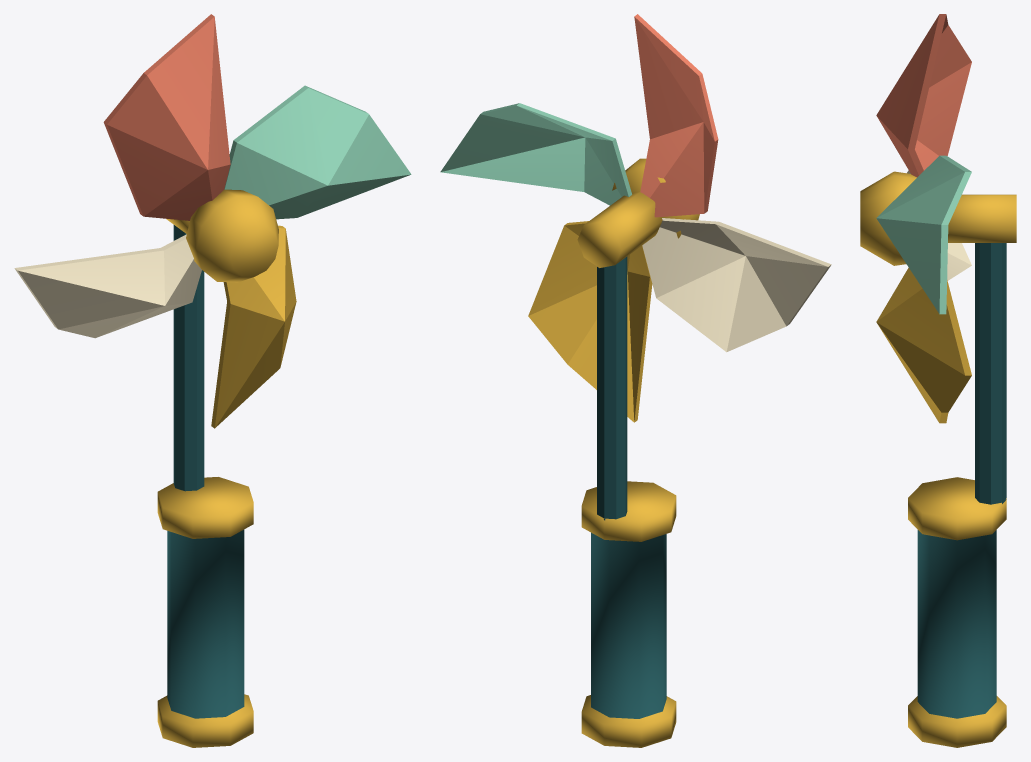
File: wield-whirl-pop.glb
3 renders of one model, left to right at view 1: azimuth 30°, elevation 25°; view 2: azimuth 150°, elevation 25°; view 3: azimuth 270°, elevation 25°, orthographic.
Parts seen in each view (by area): view 1: pinwheel__rotor_mesh, pinwheel__static_mesh; view 2: pinwheel__rotor_mesh, pinwheel__static_mesh; view 3: pinwheel__static_mesh, pinwheel__rotor_mesh.
Part boxes in pixels (<box>): pinwheel__rotor_mesh: <box>14,14,411,428</box>; pinwheel__static_mesh: <box>157,218,253,747</box>; pinwheel__rotor_mesh: <box>440,14,831,422</box>; pinwheel__static_mesh: <box>577,192,676,747</box>; pinwheel__static_mesh: <box>908,194,1016,747</box>; pinwheel__rotor_mesh: <box>860,14,971,423</box>.
Size of the model in its own units: 0.2288 by 0.3984 by 0.079.
